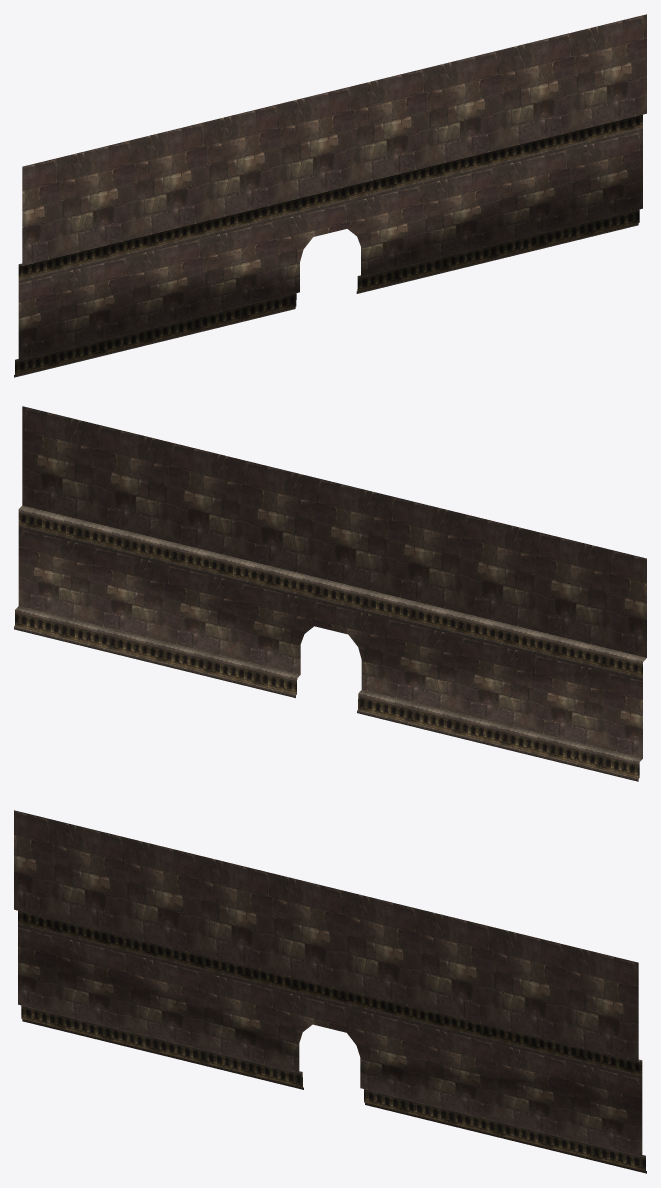
Rendered from arch_wall_up.FBX.
The picture shows the model from 3 angles, top to bottom: view 1: azimuth 30°, elevation 25°; view 2: azimuth 150°, elevation 25°; view 3: azimuth 330°, elevation 25°; orthographic projection.
Parts seen in each view (by area): view 1: arch_wall_up; view 2: arch_wall_up; view 3: arch_wall_up.
Part boxes in pixels (box(x1,y1,x2,y2)): arch_wall_up: box(14, 14, 646, 377); arch_wall_up: box(14, 406, 646, 781); arch_wall_up: box(14, 810, 646, 1173).
Bounding box in the file's own units: 43.17 × 14.34 × 0.9984.
